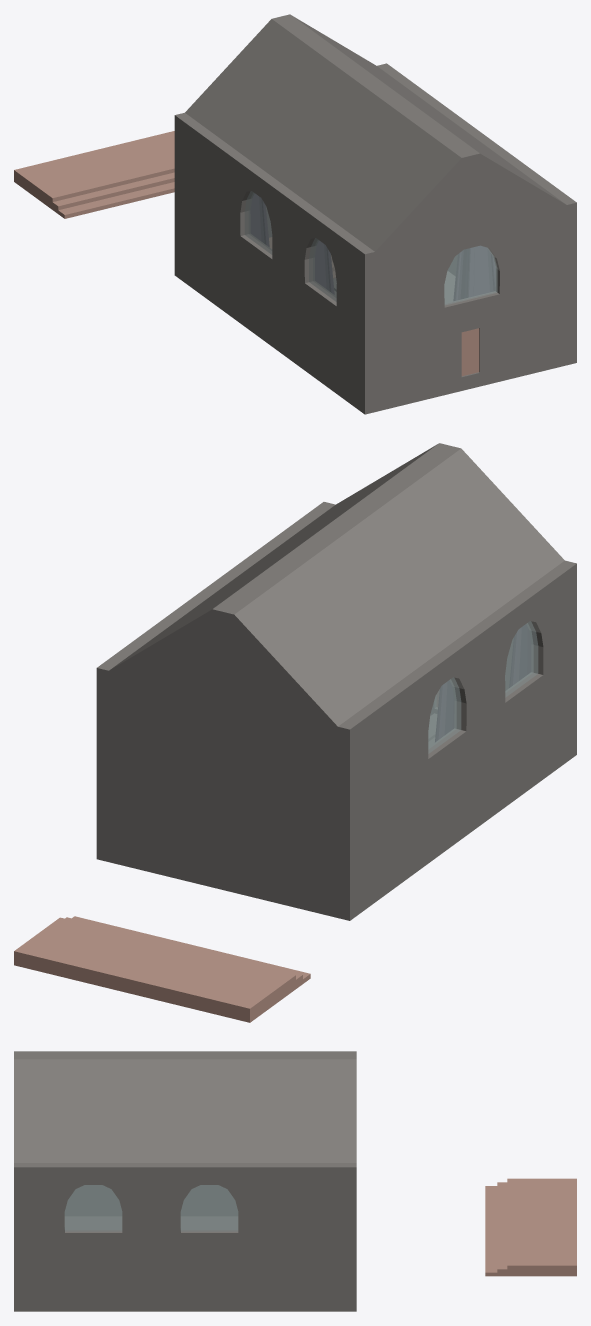
File: church_base.fbx
3 views of the same model, one above another, from view 1: azimuth 30°, elevation 25°; view 2: azimuth 150°, elevation 25°; view 3: azimuth 270°, elevation 25° (orthographic). The views are drawn at different scales.
Visible parts, largest first — view 1: issame2; view 2: issame2; view 3: issame2.
Boxes of the visible parts, x1=… form: issame2: x1=14, y1=14, x2=576, y2=414; issame2: x1=14, y1=443, x2=576, y2=1022; issame2: x1=14, y1=1051, x2=576, y2=1311.
Size of the model in its own units: 116 by 103 by 251.
